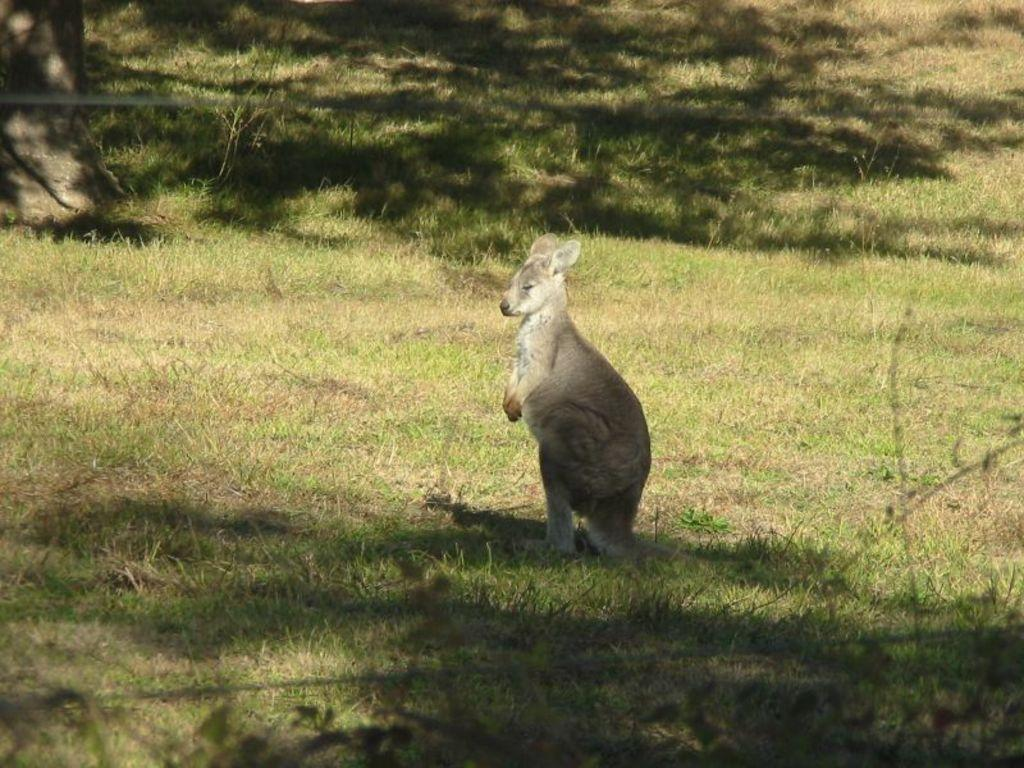kangaroo: (494, 231, 746, 570)
